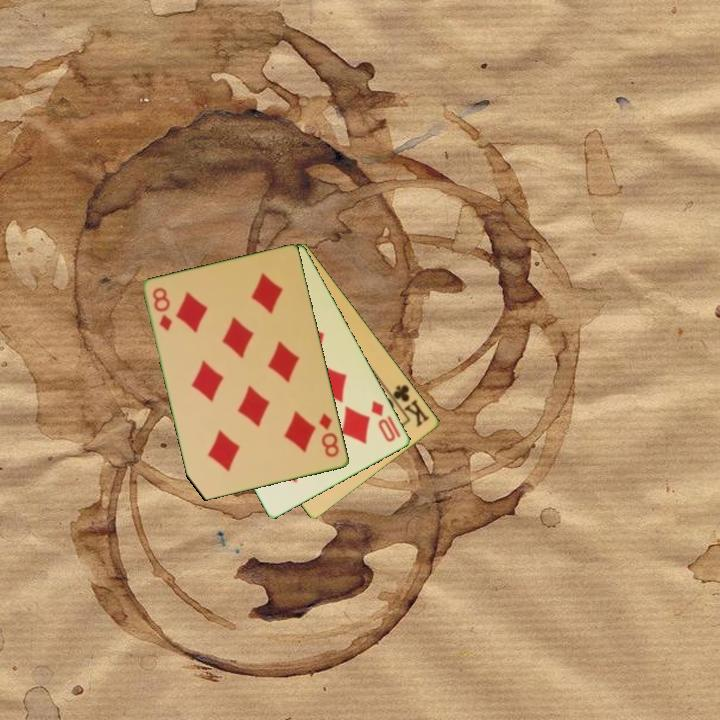10d: (368, 397, 399, 445)
8d: (149, 284, 176, 334), (316, 410, 342, 460)
Kc: (385, 381, 433, 430)
